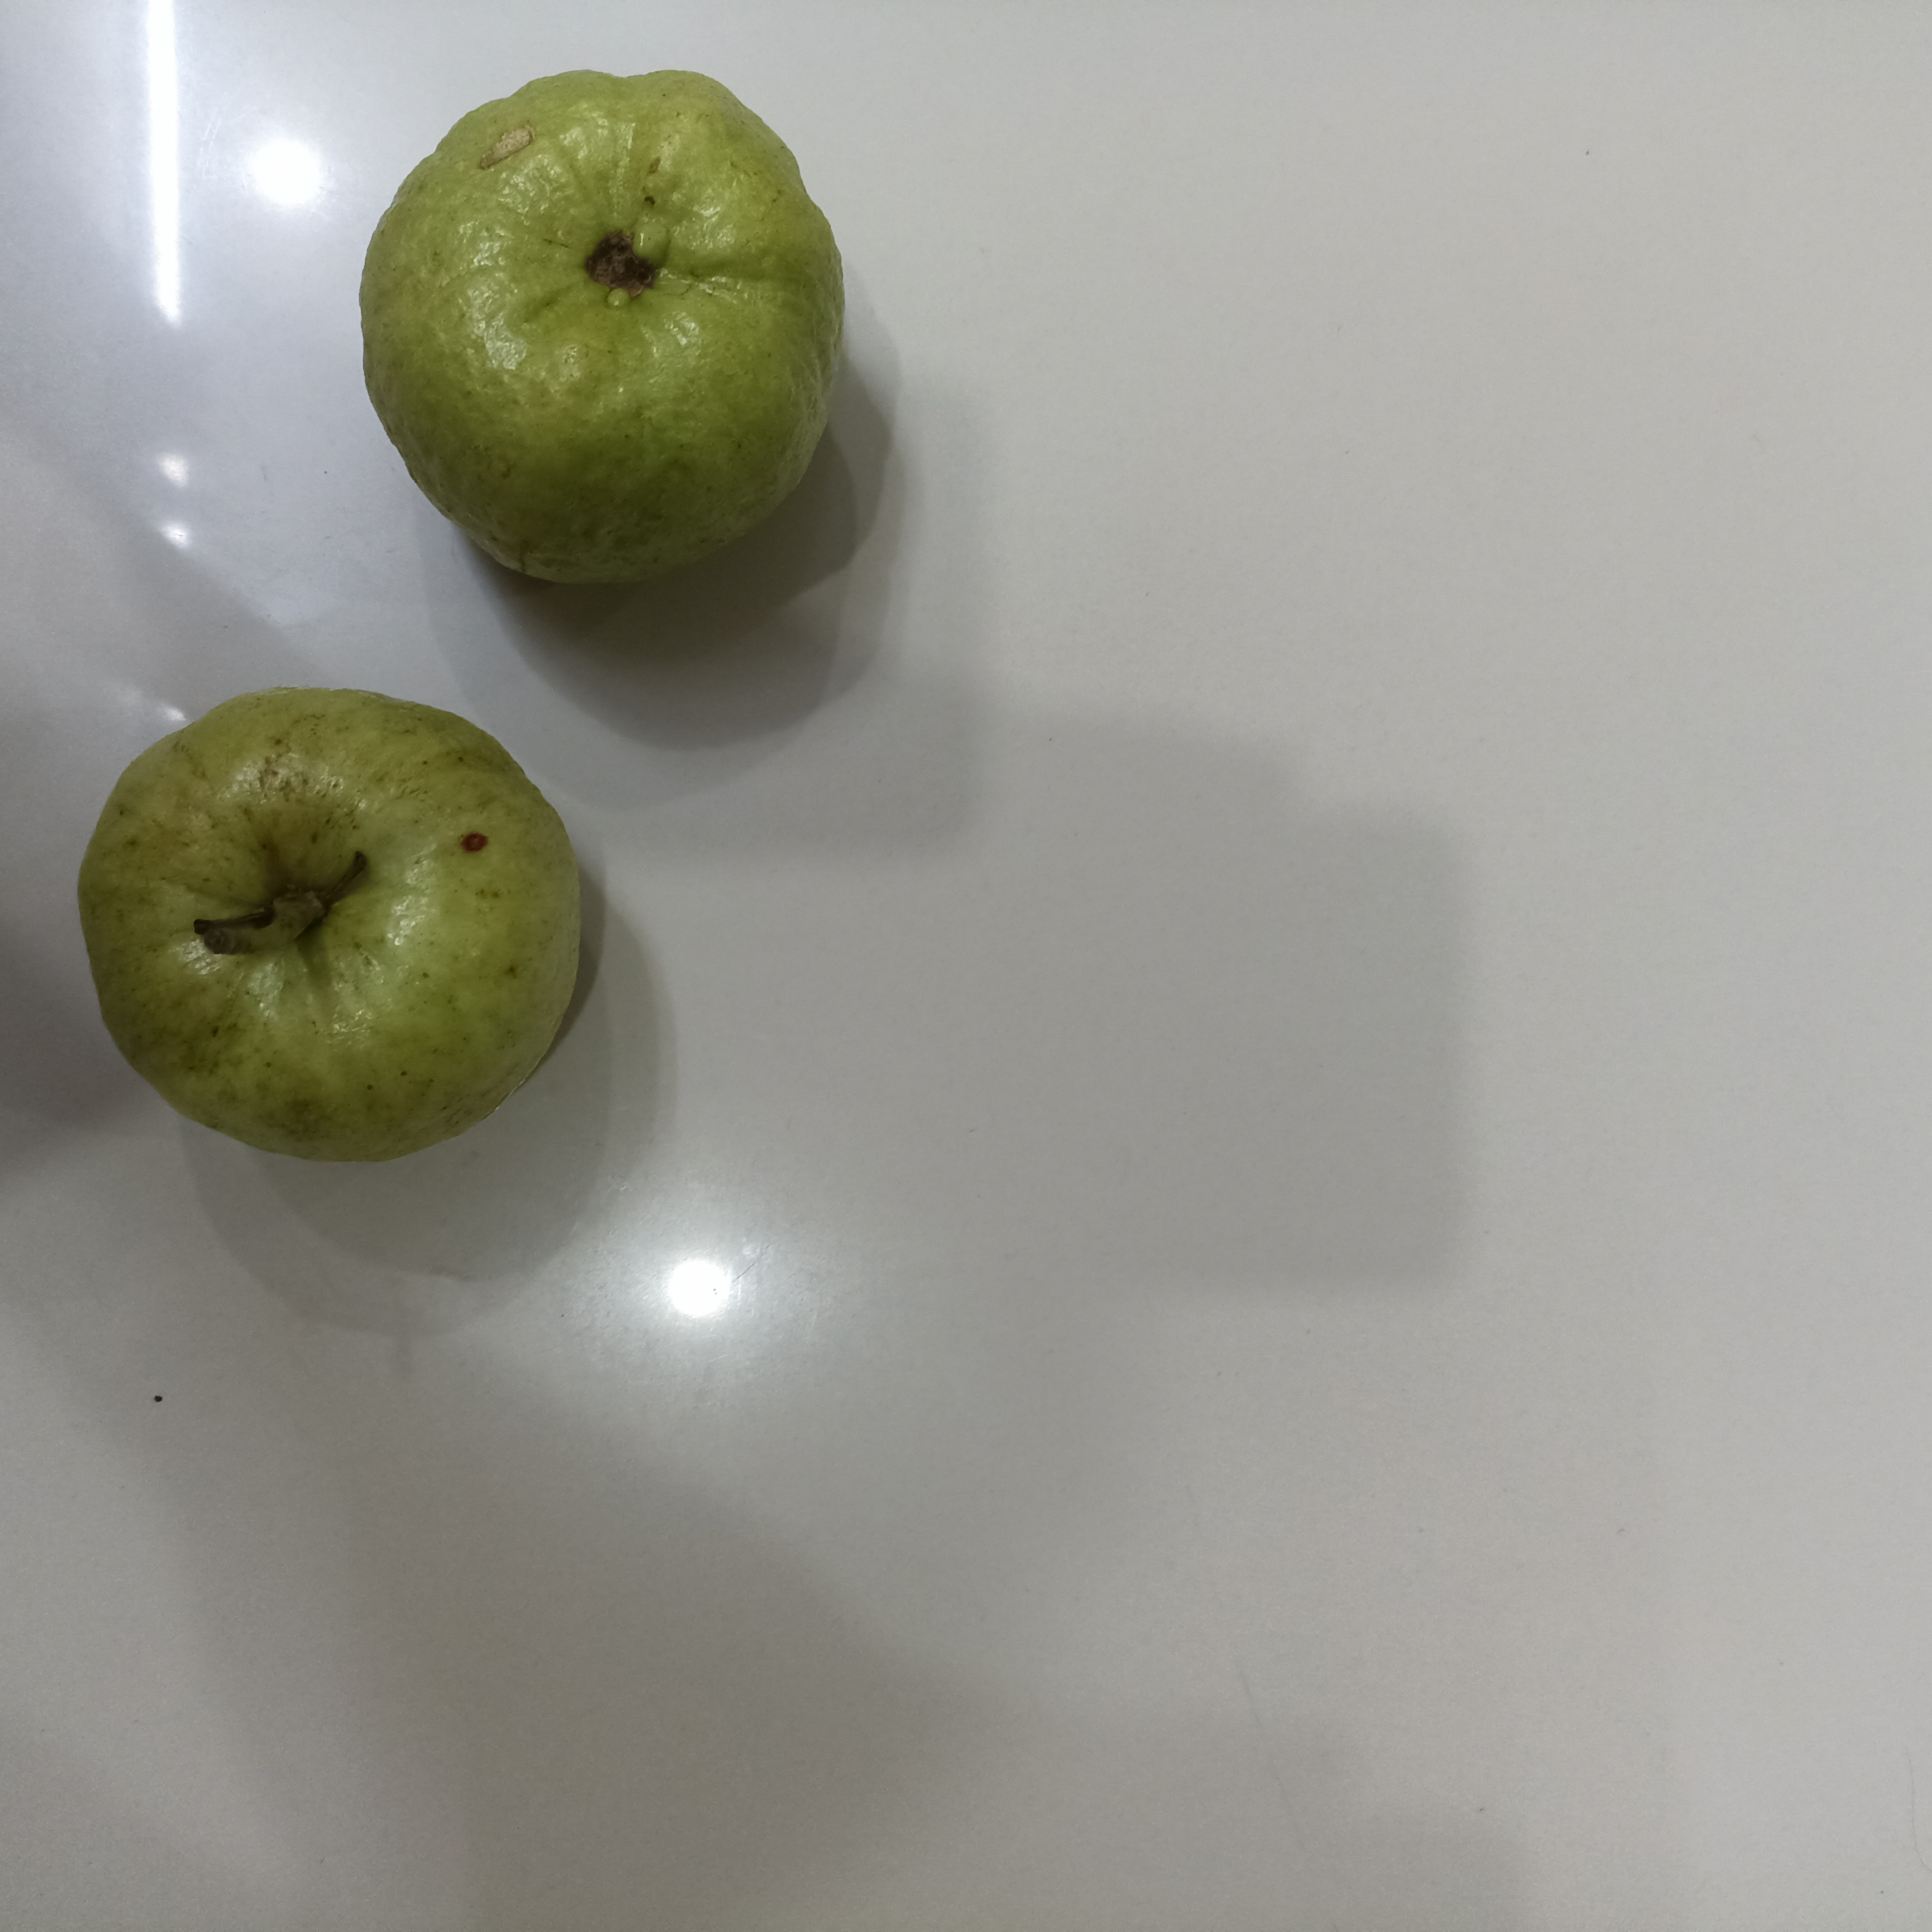Oi: (359, 74, 849, 598), (76, 692, 582, 1155)
